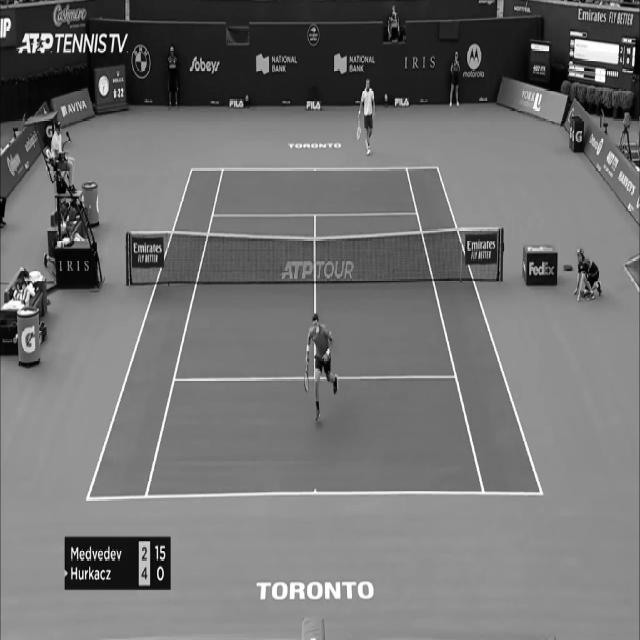tennis-court: (85, 167, 543, 500)
